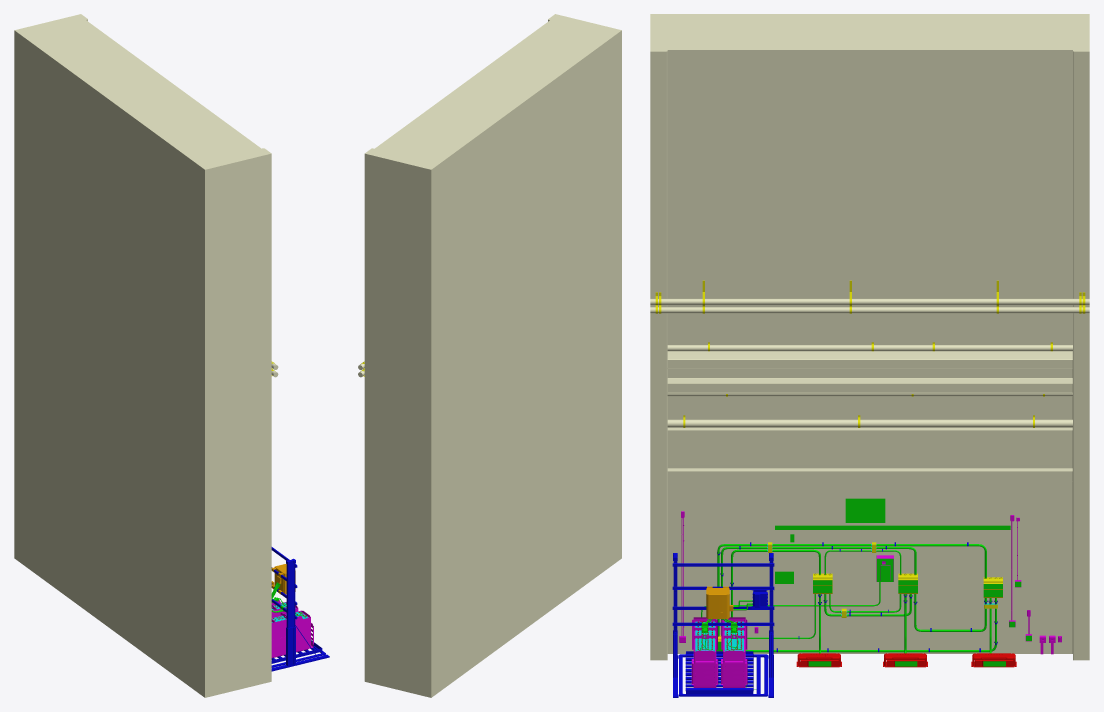
The model's file is wall_chargers_GRP.fbx.
The picture shows the model from 3 angles, left to right: view 1: azimuth 30°, elevation 25°; view 2: azimuth 150°, elevation 25°; view 3: azimuth 270°, elevation 25°; orthographic projection. The views are drawn at different scales.
Visible parts, largest first — view 1: wall_chargers_01, wall_chargers_frame_01, wall_chargers_battery_04, wall_chargers_battery_01; view 2: wall_chargers_01; view 3: wall_chargers_01, wall_chargers_pipe_01, wall_chargers_wire_casing_01, wall_chargers_frame_01, decals_wall_chargers_simple1, wall_chargers_battery_01, wall_chargers_wiring_01, wall_chargers_battery_04, wall_chargers_network_front_01, wall_chargers_u_brackets_01, wall_chargers_net_01, wall_chargers_battery_02.
Part boxes in pixels (<box>): wall_chargers_01: <box>14,14,271,697</box>; wall_chargers_frame_01: <box>271,547,329,671</box>; wall_chargers_battery_04: <box>271,600,310,648</box>; wall_chargers_battery_01: <box>271,607,313,658</box>; wall_chargers_01: <box>364,14,621,697</box>; wall_chargers_01: <box>650,14,1089,660</box>; wall_chargers_pipe_01: <box>650,298,1089,427</box>; wall_chargers_wire_casing_01: <box>701,544,996,653</box>; wall_chargers_frame_01: <box>672,553,774,697</box>; decals_wall_chargers_simple1: <box>716,498,1031,666</box>; wall_chargers_battery_01: <box>691,617,747,687</box>; wall_chargers_wiring_01: <box>679,511,1061,654</box>; wall_chargers_battery_04: <box>694,619,745,683</box>; wall_chargers_network_front_01: <box>716,542,1002,651</box>; wall_chargers_u_brackets_01: <box>655,280,1085,427</box>; wall_chargers_net_01: <box>706,586,733,618</box>; wall_chargers_battery_02: <box>695,621,743,651</box>.
Bounding box in the file's own units: 244 × 917 × 600.
